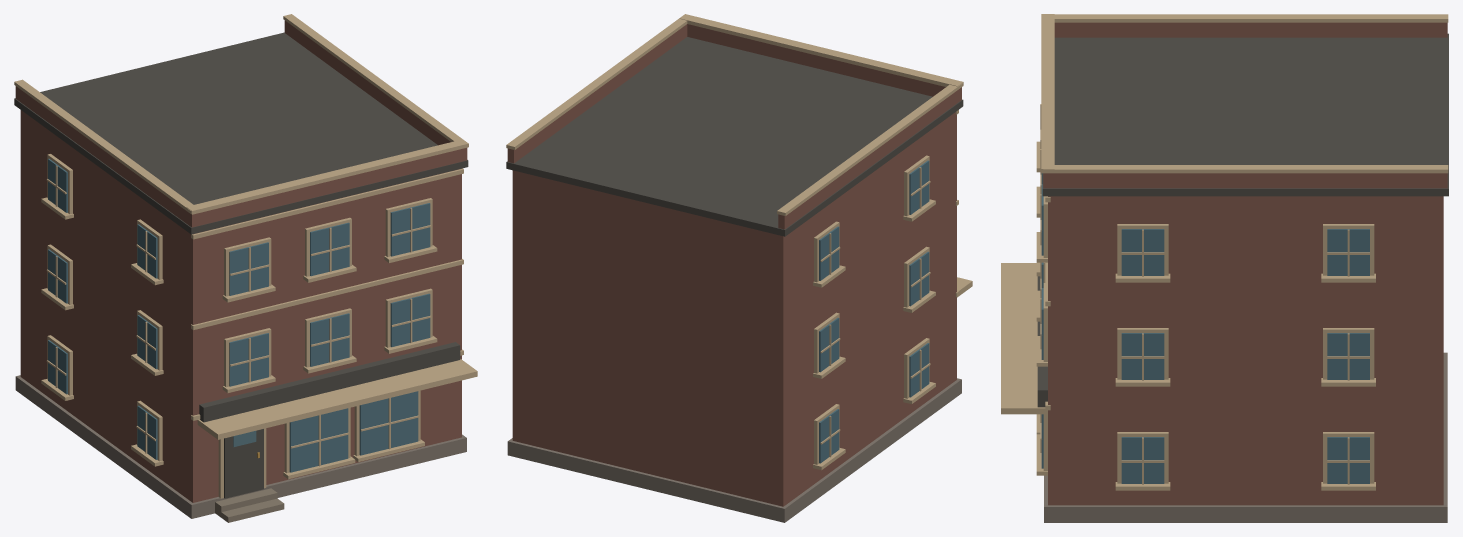
File: brick_walkup.glb
The picture shows the model from 3 angles, left to right: view 1: azimuth 30°, elevation 25°; view 2: azimuth 150°, elevation 25°; view 3: azimuth 270°, elevation 25°; orthographic projection. The views are drawn at different scales.
Visible parts, largest first — view 1: Main building, Flat roof, Stone foundation, Ground floor canopy, Ground floor fascia, Front parapet, Blue glazing.018, Blue glazing.019, Front coping, Side parapet, Door, Side parapet.001 (+25 smaller); view 2: Main building, Flat roof, Stone foundation, Front parapet, Front coping, Side parapet, Side parapet.001, Parapet coping, Parapet coping.001, Blue glazing, Blue glazing.001, Blue glazing.008 (+3 smaller); view 3: Main building, Flat roof, Stone foundation, Side parapet.001, Side parapet, Ground floor canopy, Parapet coping.001, Parapet coping, Front coping, Blue glazing.002, Blue glazing.003, Blue glazing.009 (+10 smaller).
Part boxes in pixels (<box>): Main building: <box>20,110,461,502</box>; Flat roof: <box>14,32,468,234</box>; Stone foundation: <box>15,375,466,518</box>; Ground floor canopy: <box>197,359,477,439</box>; Ground floor fascia: <box>199,342,460,422</box>; Front parapet: <box>191,148,467,227</box>; Blue glazing.018: <box>289,408,348,472</box>; Blue glazing.019: <box>359,391,418,455</box>; Front coping: <box>186,139,468,214</box>; Side parapet: <box>15,86,191,226</box>; Door: <box>224,429,263,498</box>; Side parapet.001: <box>284,20,450,145</box>; Main building: <box>512,112,956,506</box>; Flat roof: <box>506,37,963,236</box>; Stone foundation: <box>507,378,961,522</box>; Front parapet: <box>687,24,945,96</box>; Front coping: <box>679,14,963,86</box>; Side parapet: <box>778,87,961,229</box>; Side parapet.001: <box>507,24,687,163</box>; Parapet coping: <box>777,83,963,215</box>; Parapet coping.001: <box>506,18,687,149</box>; Blue glazing: <box>909,343,929,397</box>; Blue glazing.001: <box>819,409,839,463</box>; Blue glazing.008: <box>819,317,839,372</box>; Main building: <box>1048,196,1443,505</box>; Flat roof: <box>1042,33,1448,196</box>; Stone foundation: <box>1044,352,1447,522</box>; Side parapet.001: <box>1044,173,1447,188</box>; Side parapet: <box>1054,22,1447,37</box>; Ground floor canopy: <box>1001,263,1047,414</box>; Parapet coping.001: <box>1043,165,1448,173</box>; Parapet coping: <box>1054,14,1448,22</box>; Front coping: <box>1041,14,1054,173</box>; Blue glazing.002: <box>1121,437,1164,483</box>; Blue glazing.003: <box>1327,437,1369,483</box>; Blue glazing.009: <box>1121,333,1164,379</box>.
Bounding box in the file's own units: 8.16 × 8.42 × 9.64.
